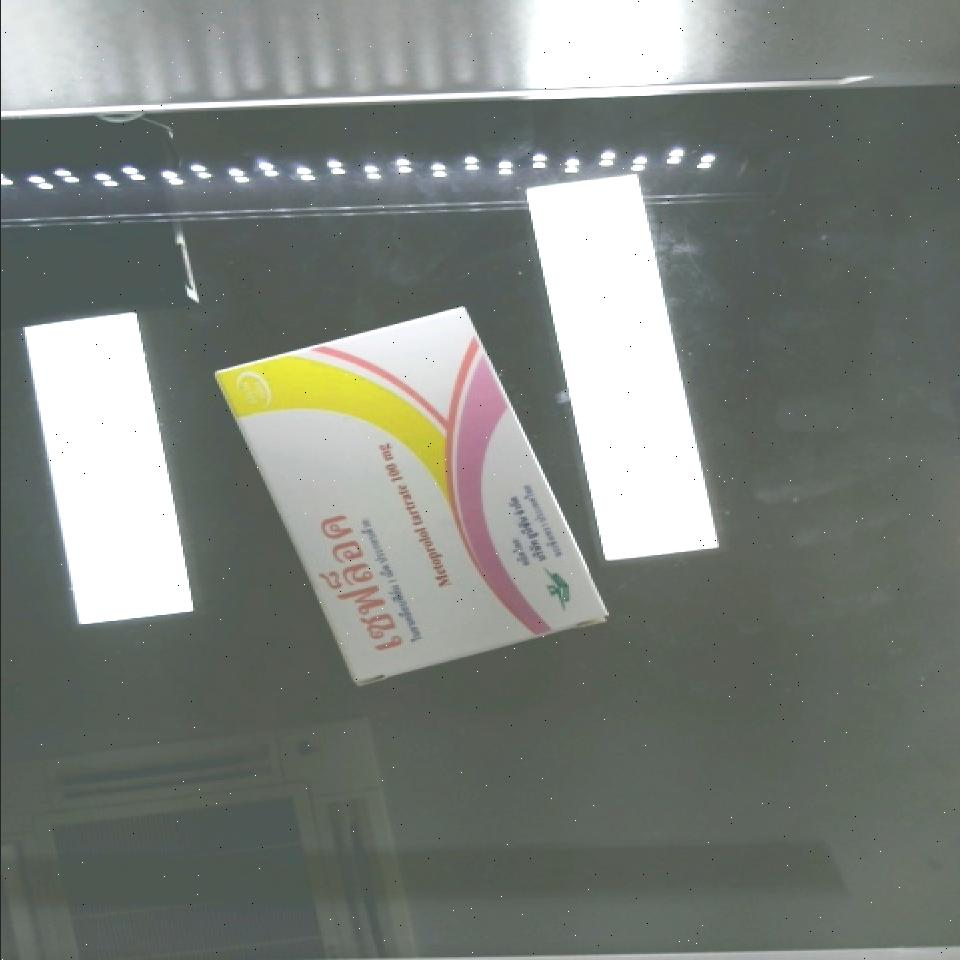medicine_box: (212, 270, 604, 721)
medicine_label_obb: (288, 495, 432, 694)
